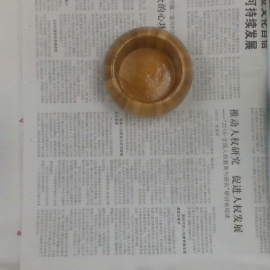chess: (102, 27, 194, 118)
